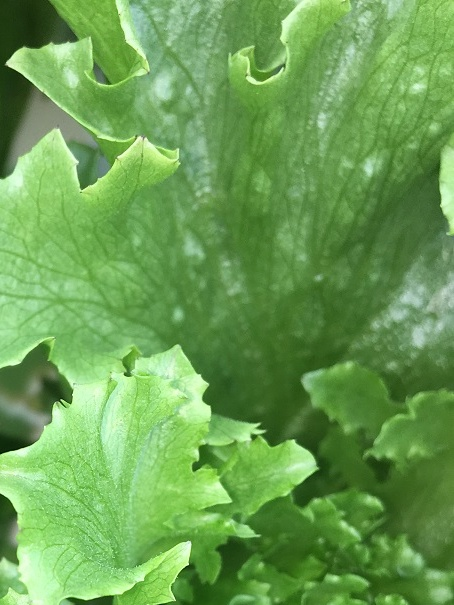tipburn: (138, 61, 156, 80), (133, 129, 154, 145), (239, 67, 256, 85), (110, 151, 126, 169), (49, 116, 65, 134), (113, 6, 127, 22), (70, 381, 80, 389)
